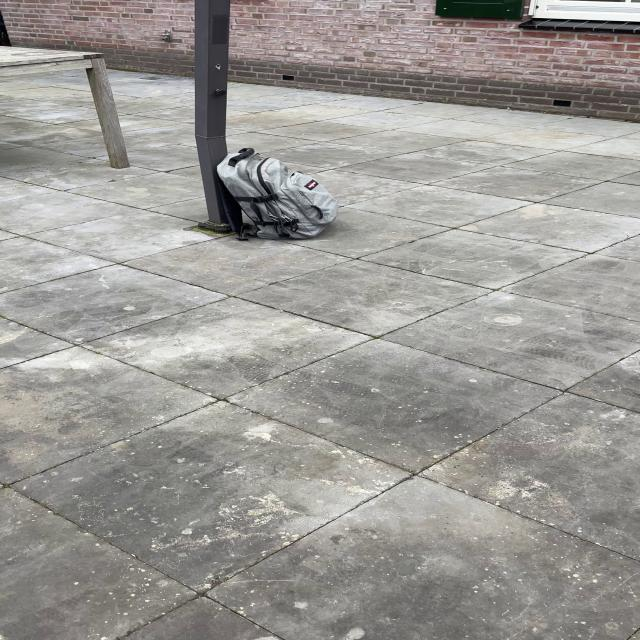backpack: (207, 146, 346, 243)
